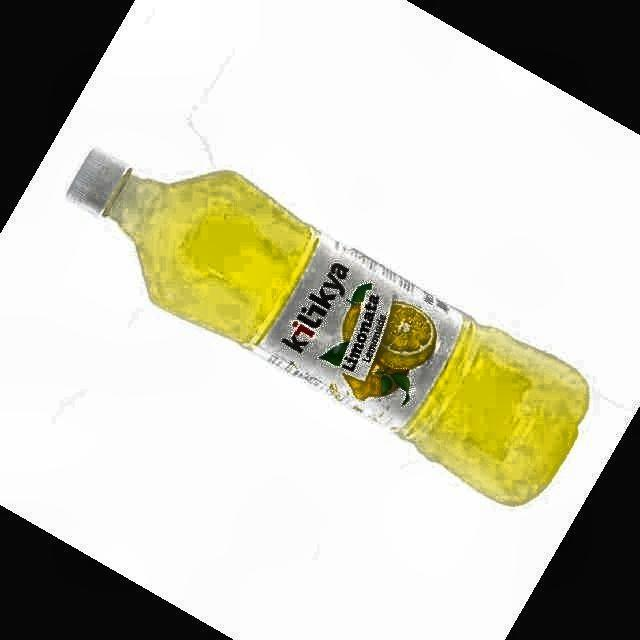plastic: (69, 151, 589, 504)
